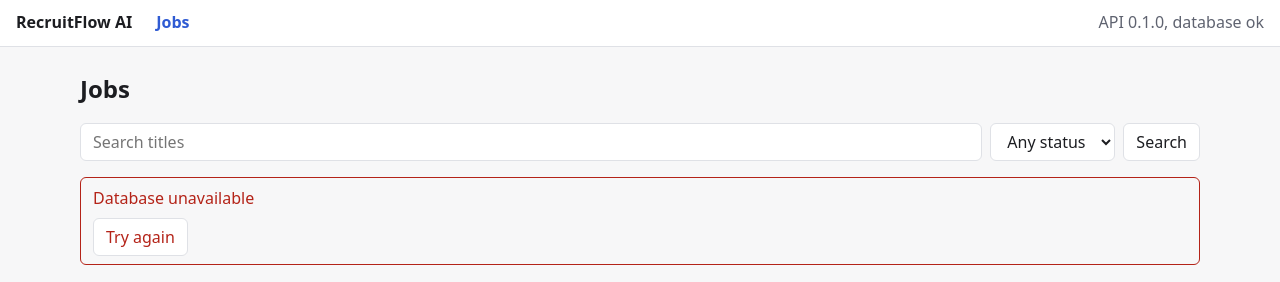
Test: job list › shows the API's error and loads again on request
Expected: the message shows "Database unavailable", [93,187,254,209]
Click the button "Try again".
click(140, 237)  # box [93,218,188,256]
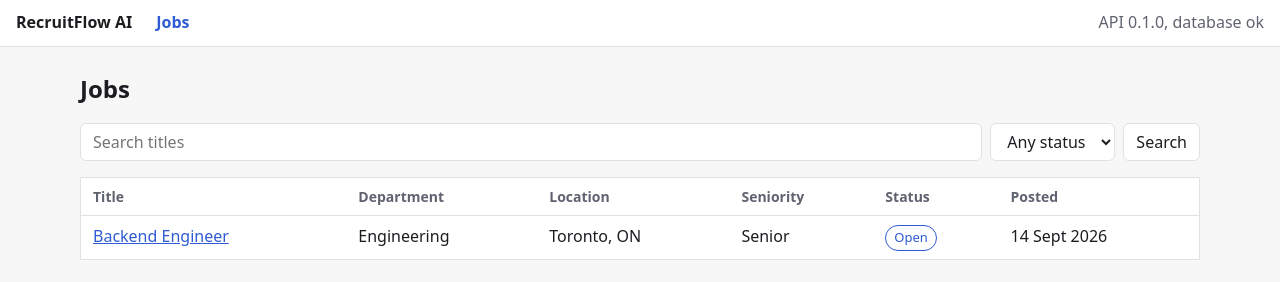
Expected: the link "Backend Engineer" is shown, [93,225,229,247]
